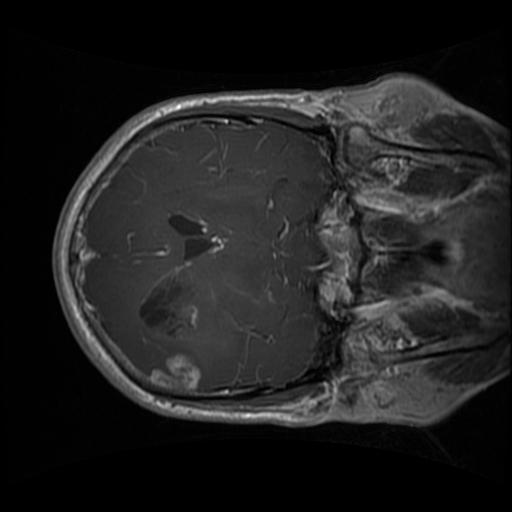glioma: (139, 266, 216, 395)
